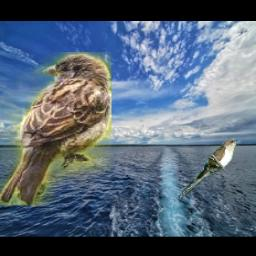Cuckoo: (178, 138, 243, 201)
Sparrow: (0, 52, 113, 205)
